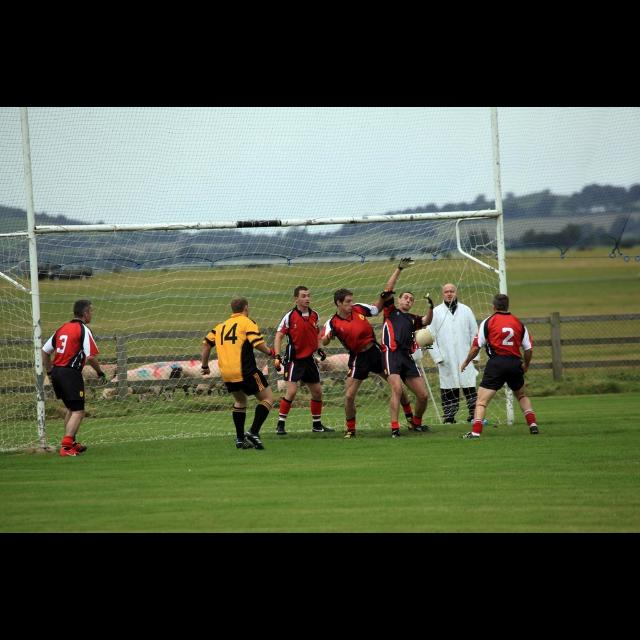Football: (413, 329, 433, 349)
